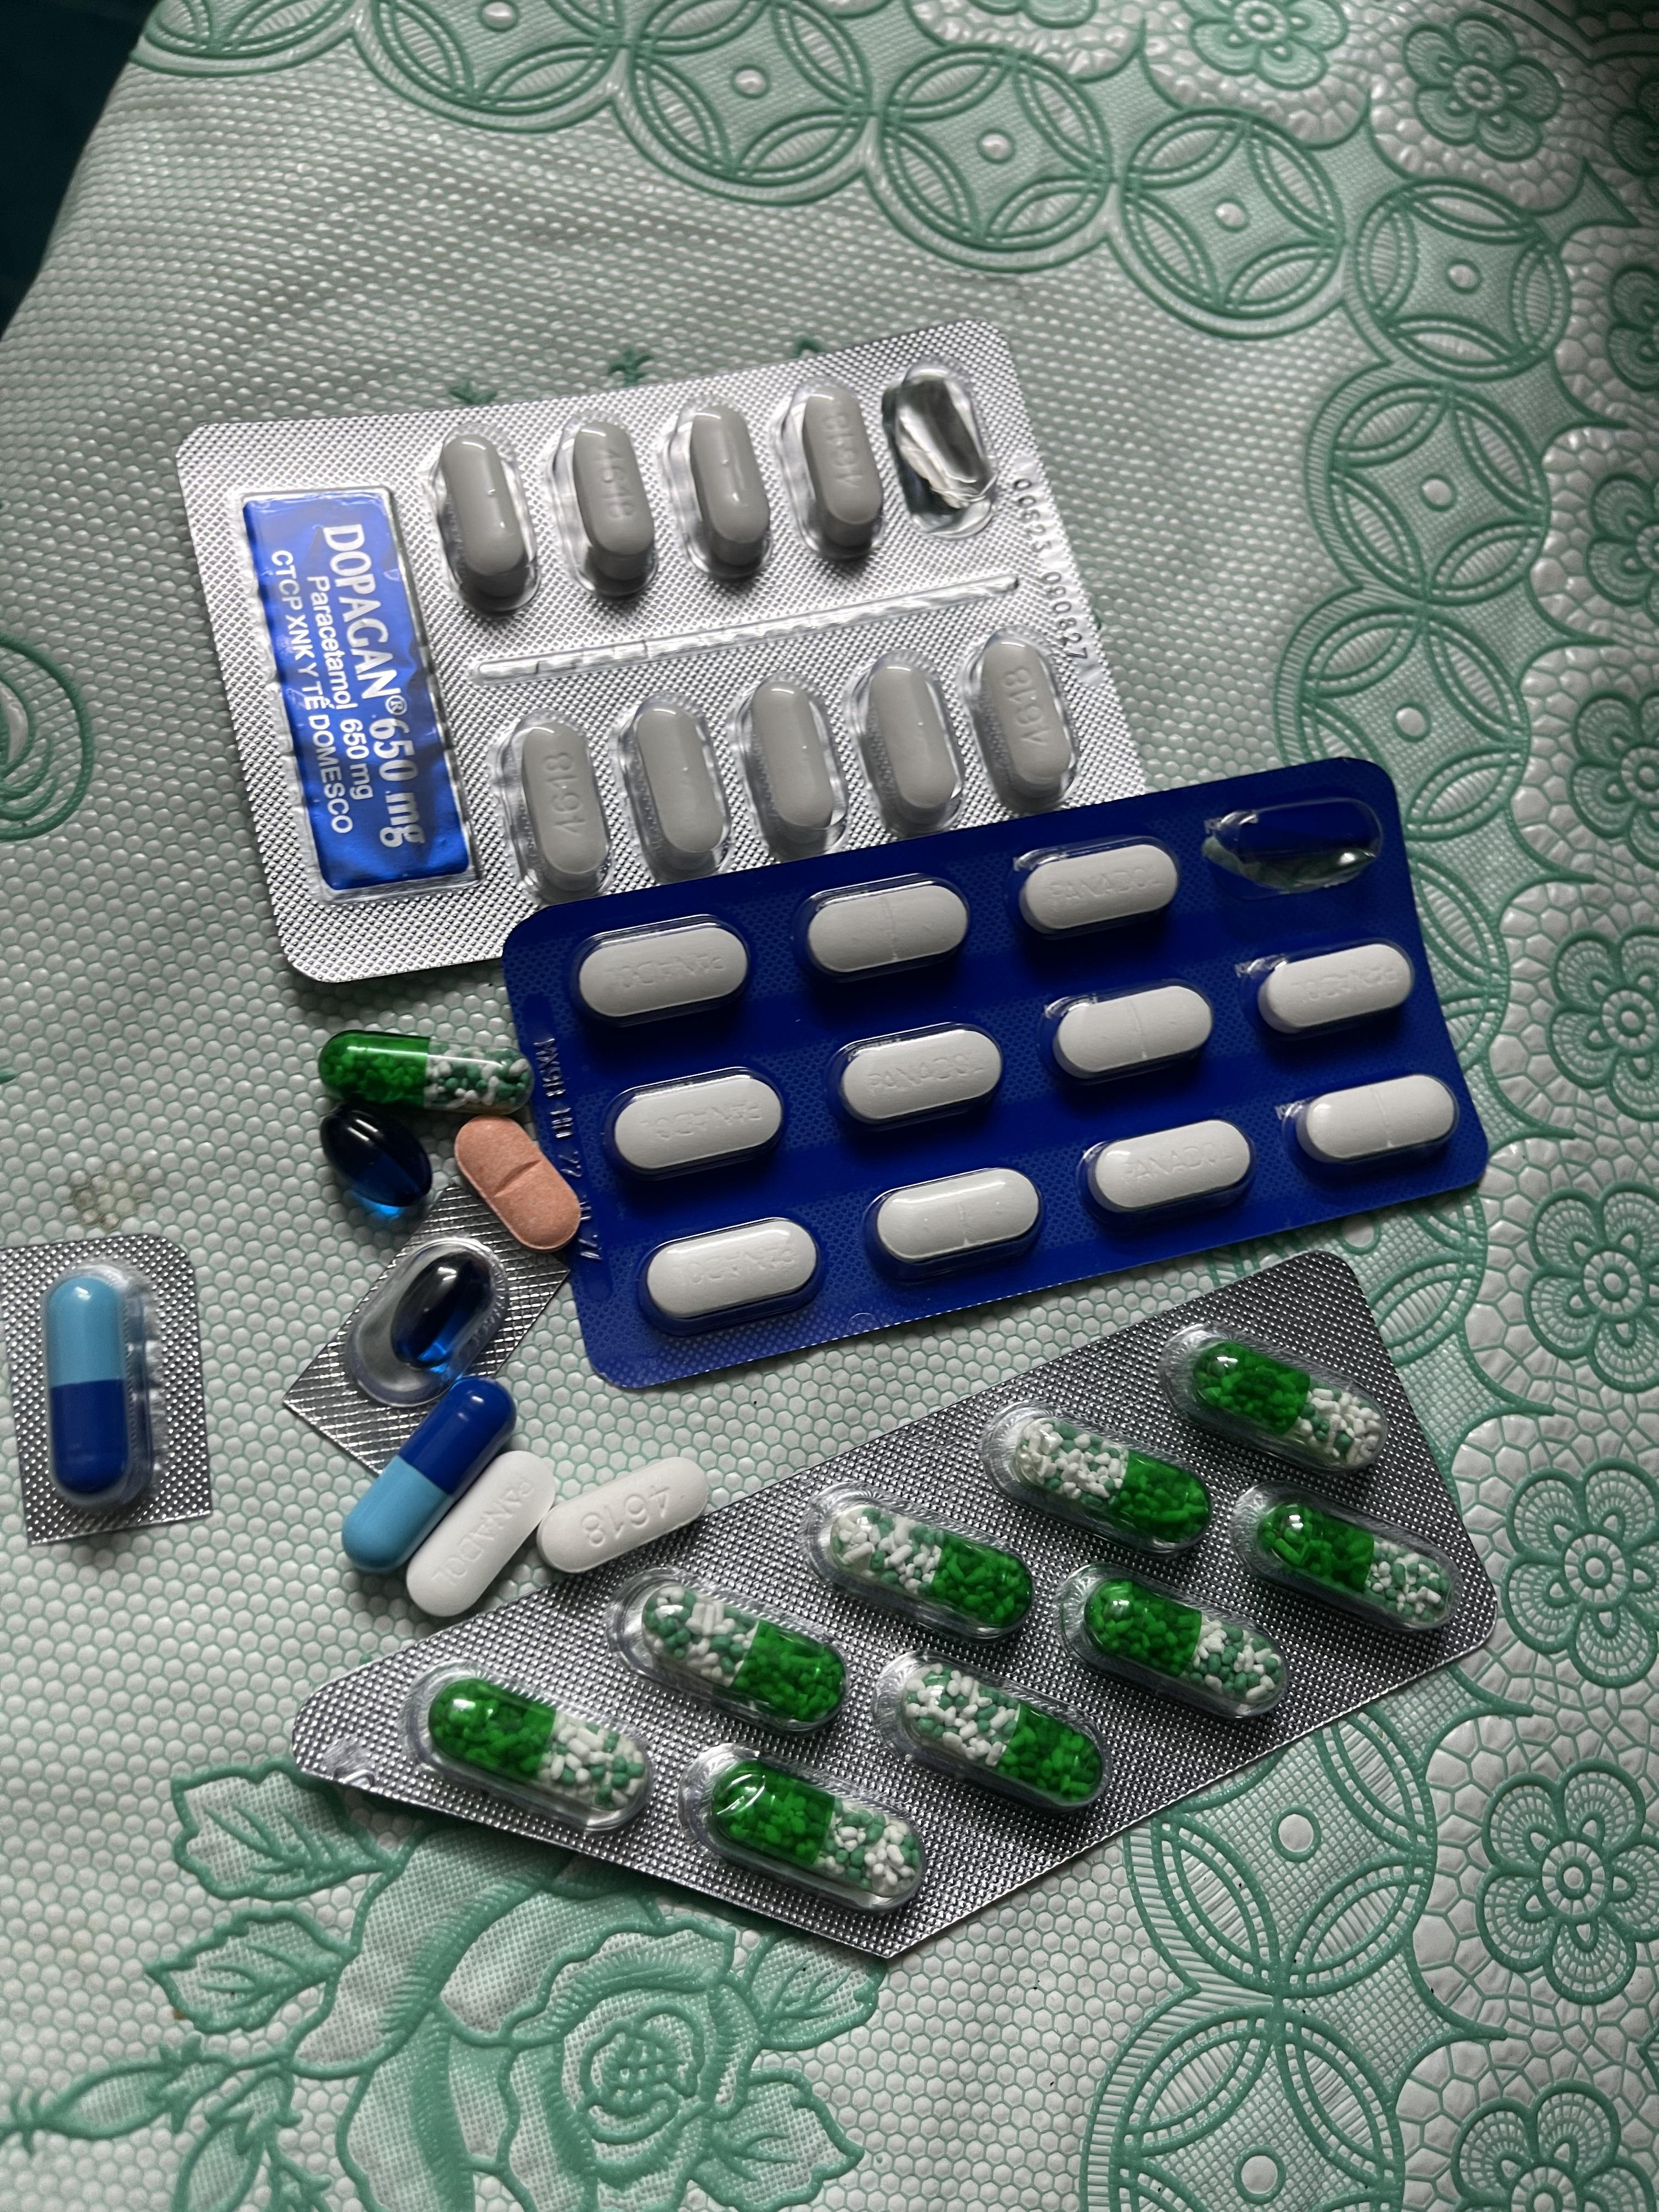Lincomyxin_500mg: (319, 1108, 436, 1214), (397, 1261, 488, 1364)
Loratadine_10mg: (453, 1118, 579, 1252)
Paracetamol_350mg: (404, 1454, 559, 1618), (641, 1217, 824, 1329), (608, 1069, 786, 1174), (798, 874, 972, 981), (1286, 1073, 1460, 1177), (1049, 981, 1215, 1089), (1251, 939, 1419, 1038), (579, 925, 748, 1021), (1086, 1120, 1251, 1217), (866, 1165, 1040, 1256), (840, 1026, 1004, 1120), (1021, 841, 1178, 934)
Paracetamol_500mg: (734, 671, 850, 857), (849, 650, 967, 833), (495, 707, 610, 894), (615, 691, 730, 876), (964, 627, 1079, 808), (535, 1456, 709, 1575), (430, 432, 540, 615), (777, 381, 887, 561), (666, 404, 775, 582), (554, 416, 659, 599)
Paracetamol_650mg: (432, 1681, 643, 1813), (638, 1585, 842, 1721), (901, 1665, 1096, 1804), (708, 1763, 918, 1892), (817, 1510, 1028, 1635), (1190, 1345, 1384, 1468), (1256, 1500, 1448, 1620), (1086, 1583, 1272, 1703), (1023, 1425, 1204, 1545), (317, 1029, 528, 1115)
pill: (336, 1378, 518, 1573), (42, 1264, 157, 1508)
